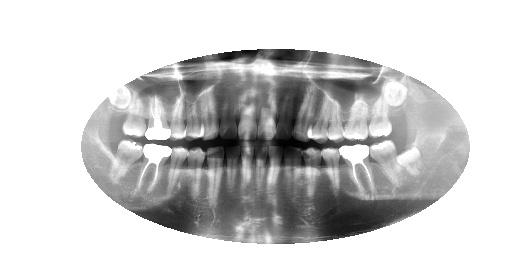i10healthy: (222, 132, 243, 205)
i11healthy: (204, 138, 225, 216)
i12healthy: (183, 136, 208, 212)
i13decay: (164, 132, 192, 217)
i14healthy: (132, 131, 172, 204)
i15decay: (104, 120, 144, 194)
i16loss: (93, 122, 124, 174)
i1healthy: (394, 144, 430, 185)
i2healthy: (366, 135, 405, 190)
i3healthy: (336, 139, 380, 201)
i4healthy: (318, 139, 347, 207)
i5healthy: (298, 134, 326, 210)
i6healthy: (280, 132, 305, 214)
i7healthy: (263, 136, 286, 210)
i8healthy: (250, 135, 270, 207)
i9healthy: (237, 129, 257, 202)
u10healthy: (216, 74, 240, 144)
u11healthy: (197, 76, 221, 146)
u12healthy: (181, 83, 207, 151)
u13decay: (167, 82, 190, 145)
u14healthy: (141, 80, 174, 148)
u15healthy: (120, 92, 153, 142)
u16healthy: (101, 81, 136, 111)
u1healthy: (379, 66, 410, 111)
u2healthy: (363, 91, 395, 144)
u3healthy: (340, 89, 372, 148)
u4healthy: (322, 81, 345, 146)
u5decay: (305, 85, 331, 153)
u6healthy: (290, 75, 315, 148)
u7healthy: (274, 72, 297, 145)
u8healthy: (255, 70, 278, 143)
u9healthy: (234, 72, 260, 146)
